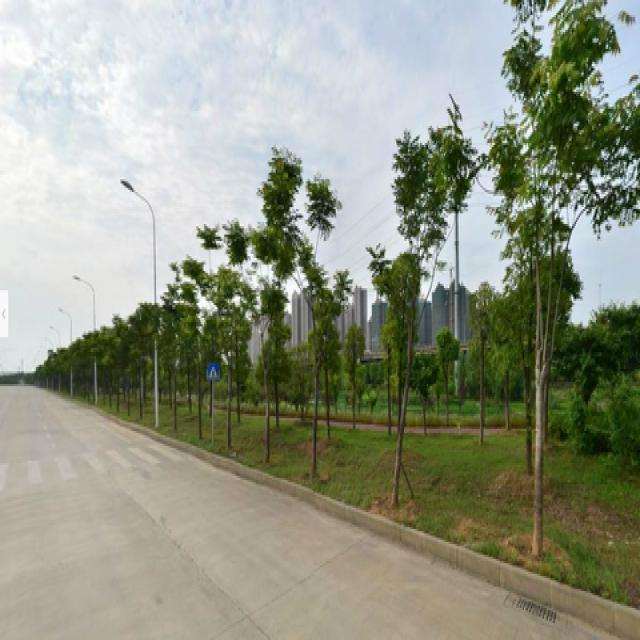koel: (508, 17, 611, 544), (376, 126, 461, 499), (269, 160, 347, 476), (207, 224, 254, 437)
